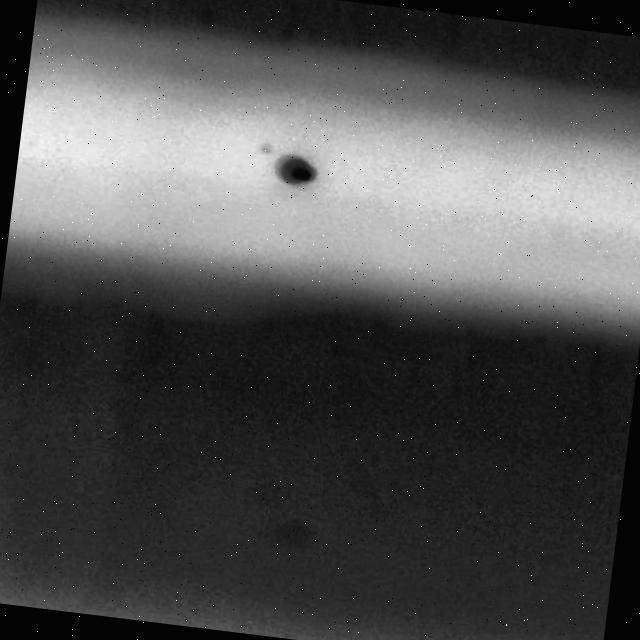Pore: (240, 131, 332, 216)
